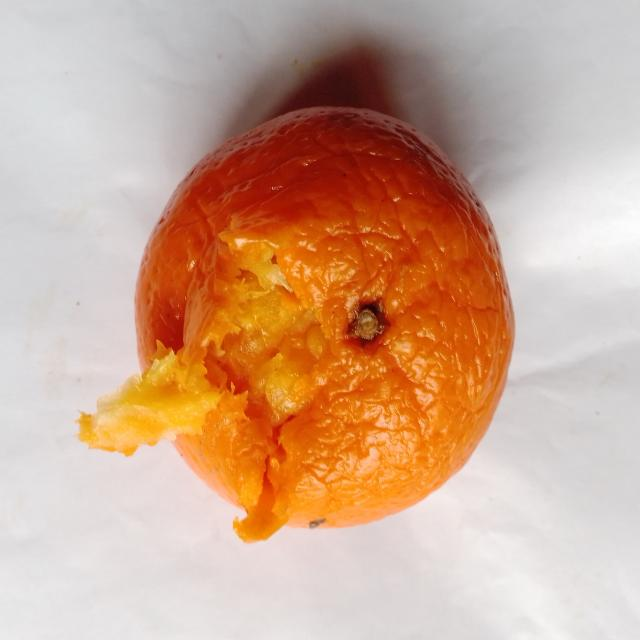orange: (80, 108, 513, 541)
